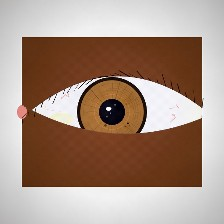pinguecula_lesion: (37, 99, 86, 139)
